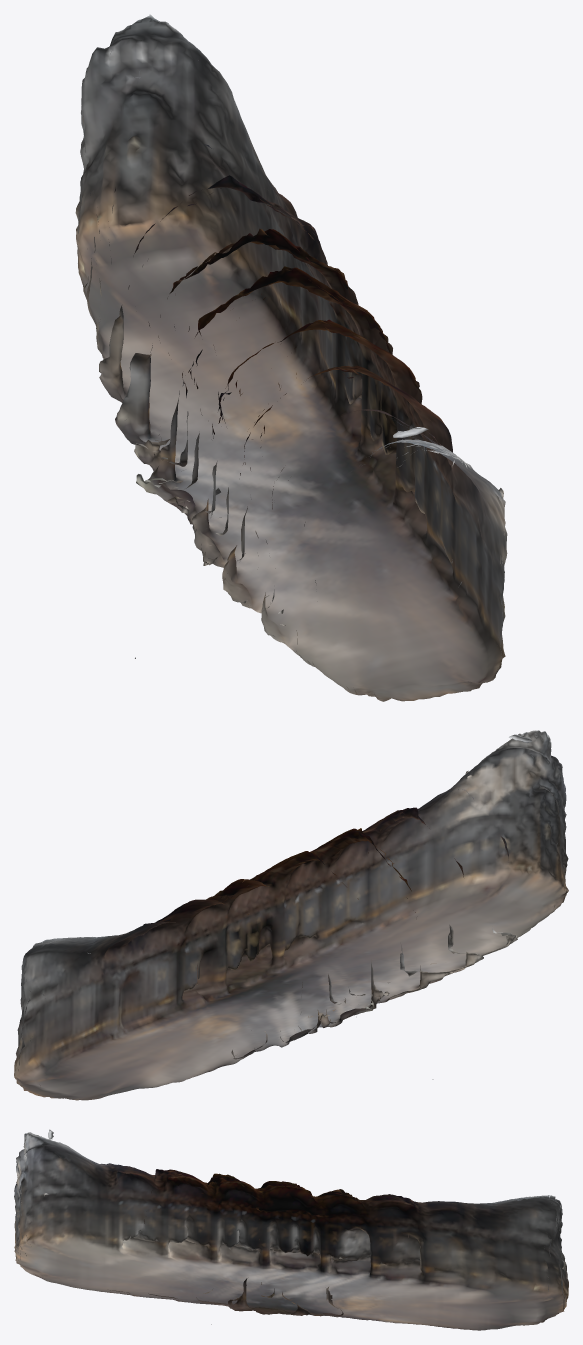
File: collider.glb
3 views of the same model, one above another, from view 1: azimuth 30°, elevation 25°; view 2: azimuth 150°, elevation 25°; view 3: azimuth 270°, elevation 25° (orthographic). The views are drawn at different scales.
Parts seen in each view (by area): view 1: world; view 2: world; view 3: world.
Boxes of the visible parts, x1,y1,x2,y2 form: world: (75, 14, 507, 701); world: (14, 730, 568, 1100); world: (14, 1129, 568, 1330).
Size of the model in its own units: 13.13 by 12.46 by 33.54.
